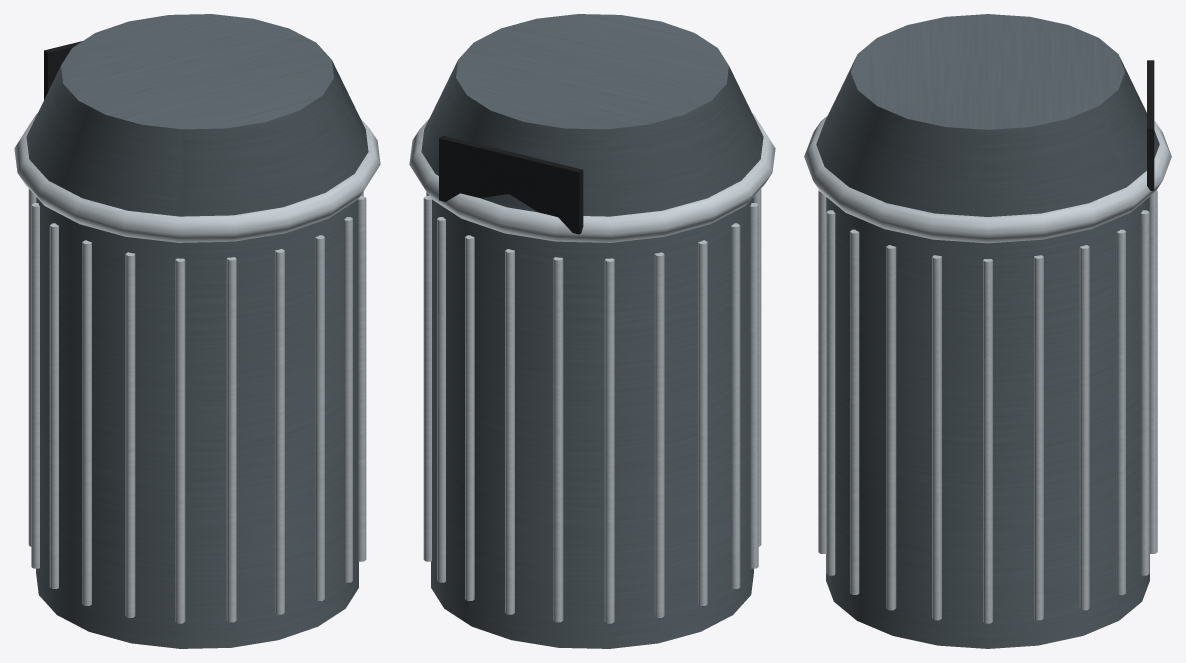
File: bin.glb
3 renders of one model, left to right at view 1: azimuth 30°, elevation 25°; view 2: azimuth 150°, elevation 25°; view 3: azimuth 270°, elevation 25°, orthographic.
Parts seen in each view (by area): view 1: bin; view 2: bin; view 3: bin.
Boxes of the visible parts, <box> form: bin: <box>14,14,380,648</box>; bin: <box>409,14,775,648</box>; bin: <box>804,14,1171,648</box>.
Bounding box in the file's own units: 0.59 × 0.9 × 0.59.
Materials: 3 (3 with a texture image).
